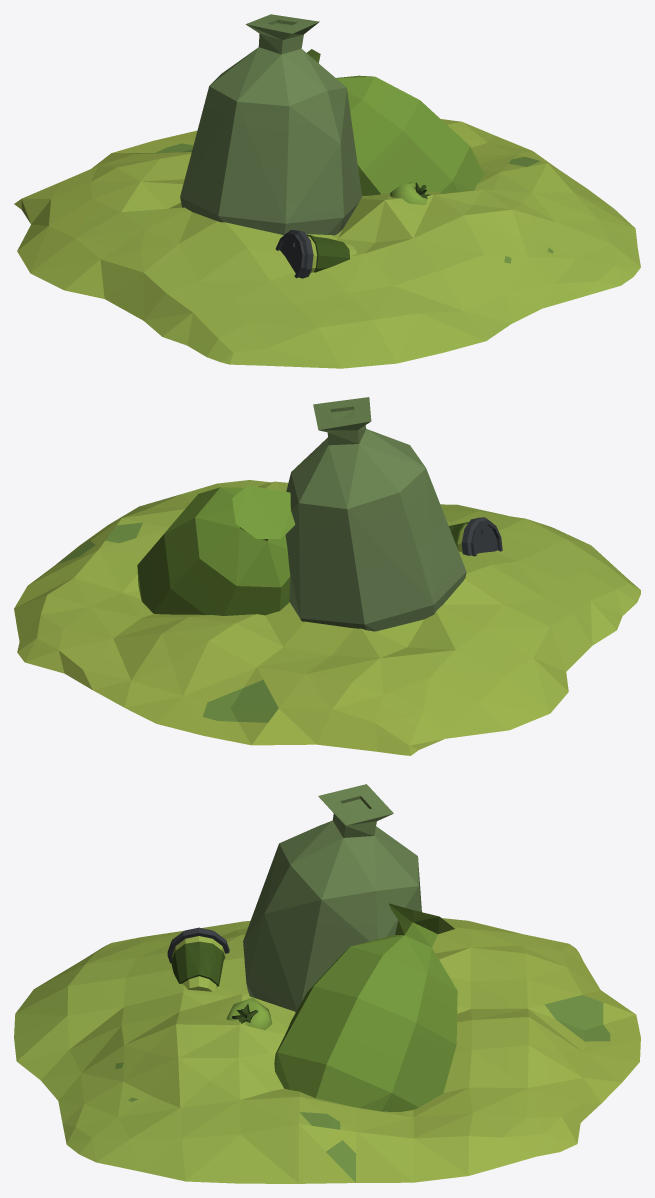
Rendered from Garbage_01.fbx.
The picture shows the model from 3 angles, top to bottom: view 1: azimuth 30°, elevation 25°; view 2: azimuth 150°, elevation 25°; view 3: azimuth 270°, elevation 25°; orthographic projection. The views are drawn at different scales.
Visible parts, largest first — view 1: Garbage_01; view 2: Garbage_01; view 3: Garbage_01.
Boxes of the visible parts, x1,y1,x2,y2 form: Garbage_01: (14,14,640,368); Garbage_01: (14,397,640,755); Garbage_01: (14,784,640,1183).
Bounding box in the file's own units: 1.28 × 0.709 × 1.27.
